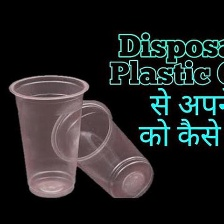glass: (3, 67, 95, 201), (48, 96, 156, 200)
